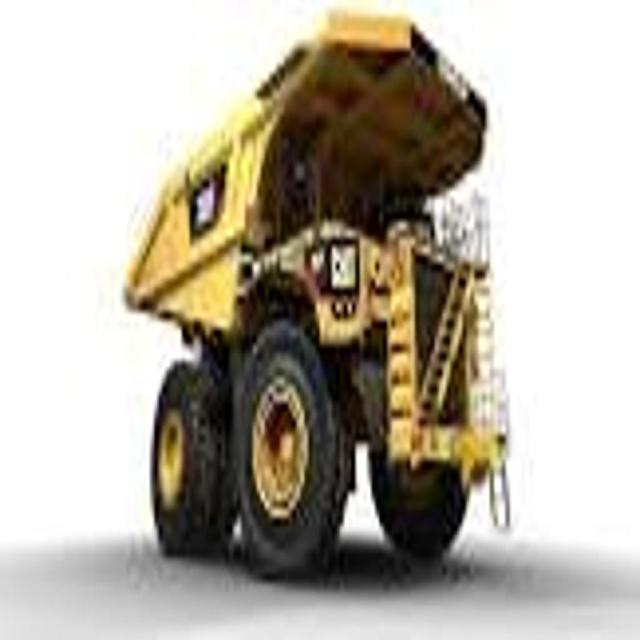dump_truck: (121, 9, 511, 580)
